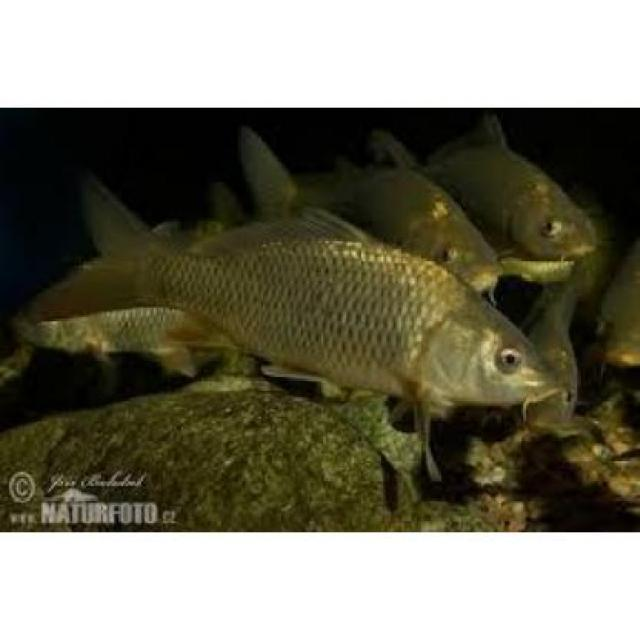ikan-mas: (53, 226, 550, 399), (326, 162, 499, 293), (11, 274, 220, 369), (458, 137, 600, 266)
